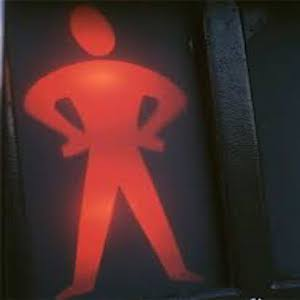red: (35, 3, 208, 293)
